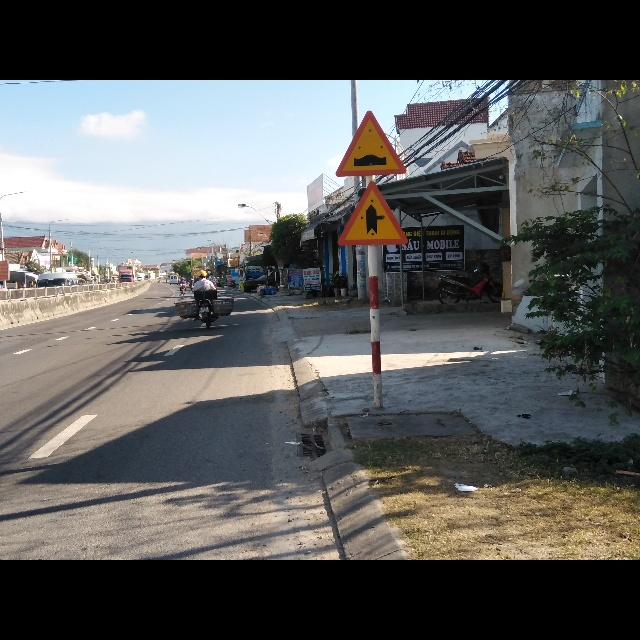Giao nhau với đường không ưu tiên: (337, 181, 409, 247)
Đường không bằng phẳng: (335, 109, 406, 180)
